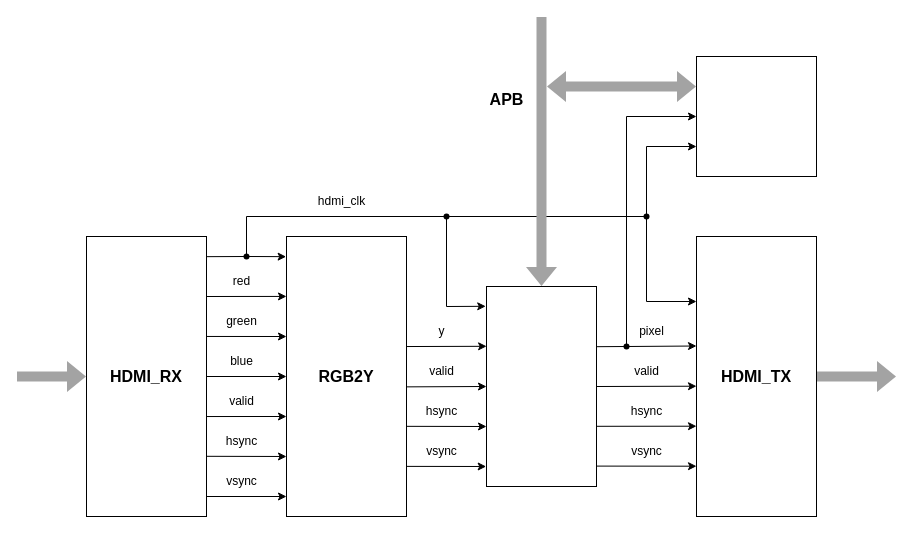
Some shapes in this 913 by 534 pixel diagram are drawn without their labels. The centre of each missing label's shape, as x and y in pixels:
FIR: point (541, 386)
HISTOGRAM CALC: point (756, 116)
